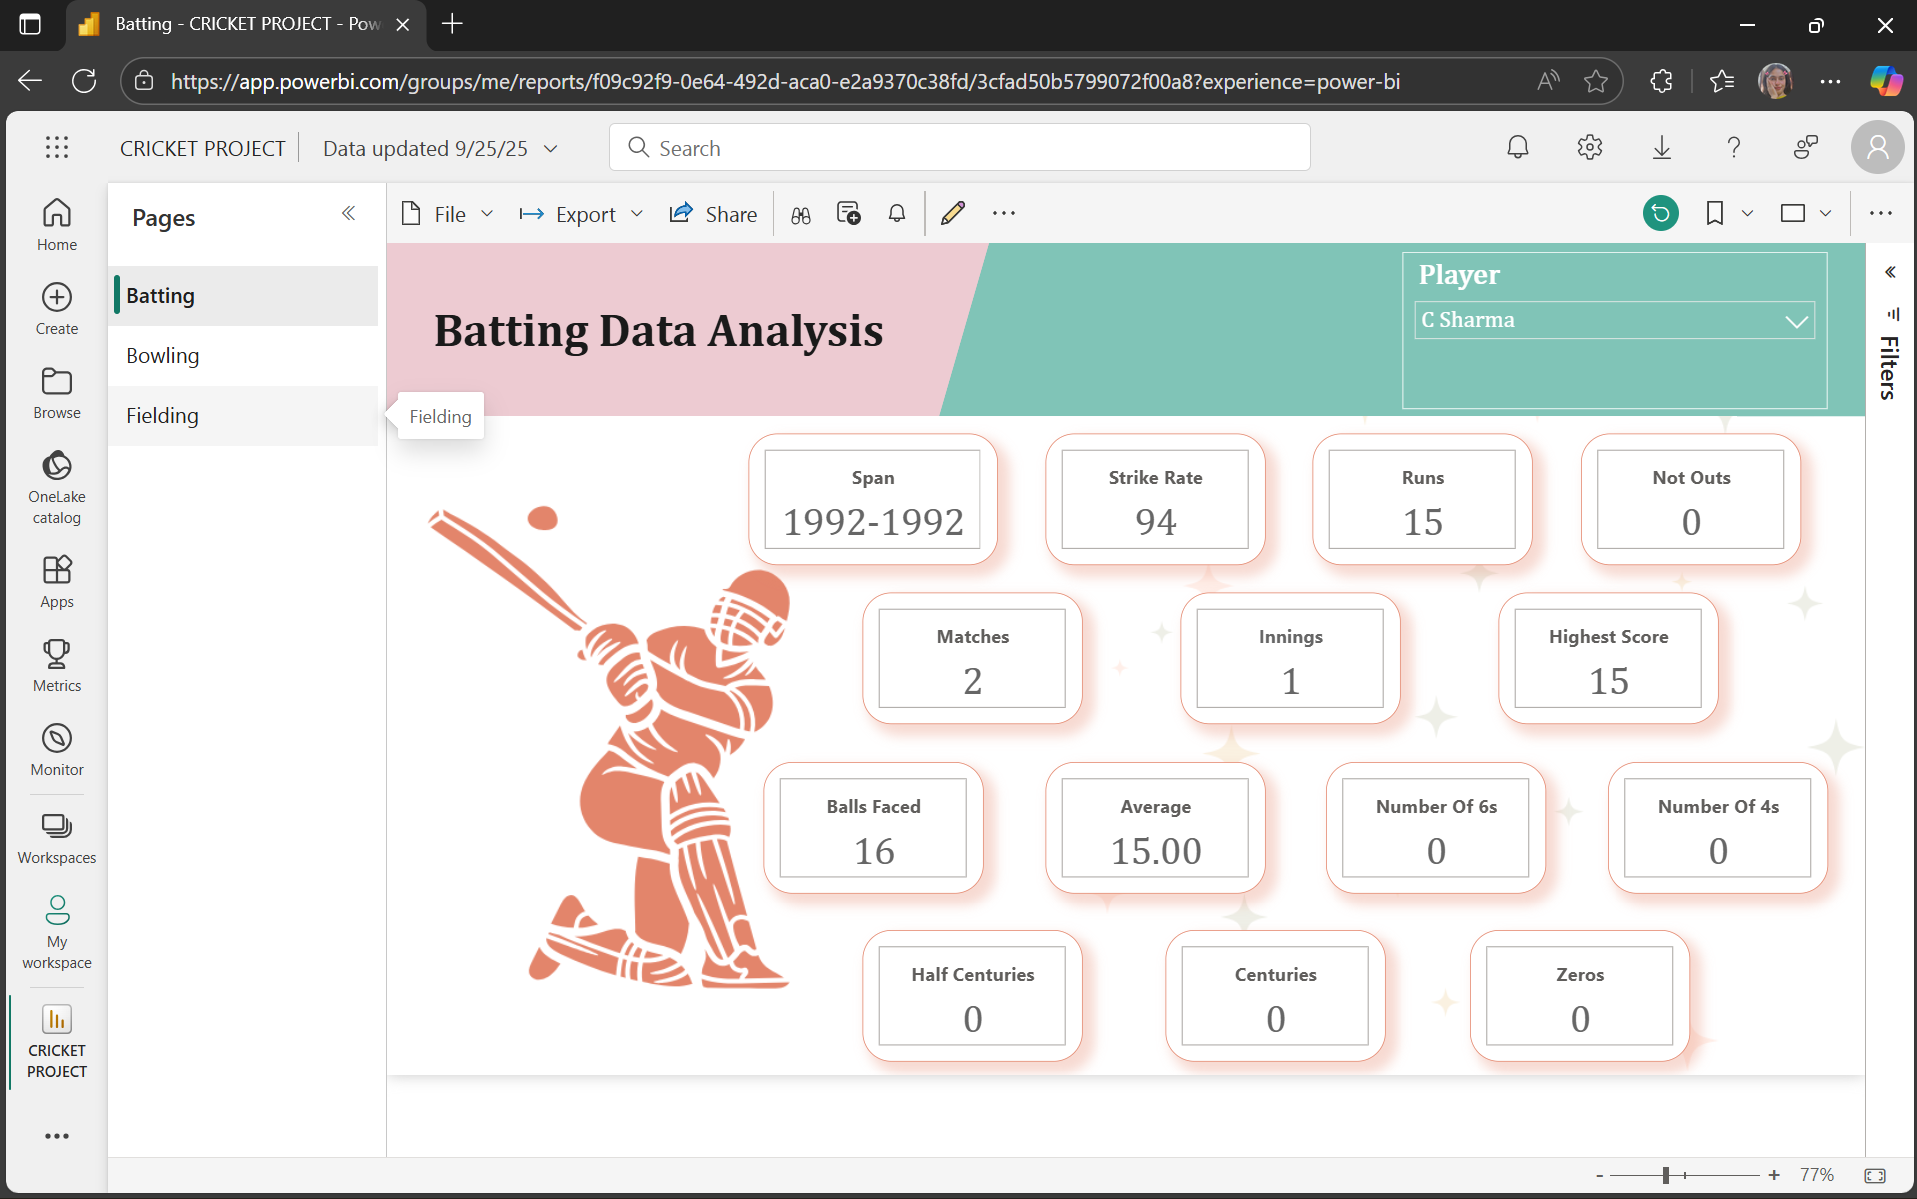

What the dashboard file says about the page in this screenshot:
{"tool":"powerbi","page":{"name":"Batting","canvas":[1280,720],"ordinal":0},"visuals":[{"type":"shape","box":[0,0,822.5,149.8],"z":0},{"type":"shape","box":[478.5,0,801,149.9],"z":1000},{"type":"shape","box":[1168.4,0,111.8,150],"z":2000},{"type":"slicer","fields":{"Values":["Batting.Player"]},"box":[879.8,7.6,368,136.3],"z":3000},{"type":"cardVisual","fields":{"Data":["Min(Batting.Span)"]},"box":[312.7,165.1,215.9,114.3],"z":4000},{"type":"cardVisual","fields":{"Data":["Sum(Batting.SR)"]},"box":[569.8,165.1,190.5,114.3],"z":5000},{"type":"cardVisual","fields":{"Data":["Sum(Batting.Runs)"]},"box":[801.6,165.1,190.5,114.3],"z":6000},{"type":"cardVisual","fields":{"Data":["Sum(Batting.NO)"]},"box":[1033.3,165.1,190.5,114.3],"z":7000},{"type":"cardVisual","fields":{"Data":["Sum(Batting.50)"]},"box":[411.1,595.2,190.5,114.3],"z":8000},{"type":"cardVisual","fields":{"Data":["Sum(Batting.Mat)"]},"box":[411.1,303.2,190.5,114.3],"z":9000},{"type":"cardVisual","fields":{"Data":["Sum(Batting.4s)"]},"box":[1057.1,449.2,190.5,114.3],"z":10000},{"type":"cardVisual","fields":{"Data":["Sum(Batting.Inns)"]},"box":[686.5,303.2,190.5,114.3],"z":11000},{"type":"cardVisual","fields":{"Data":["Sum(Batting.BF)"]},"box":[325.9,449.7,190.5,114.3],"z":12000},{"type":"cardVisual","fields":{"Data":["Sum(Batting.Ave)"]},"box":[569.6,449.2,190.5,114.3],"z":13000},{"type":"cardVisual","fields":{"Data":["Sum(Batting.6s)"]},"box":[813.4,449.2,190.5,114.3],"z":14000},{"type":"cardVisual","fields":{"Data":["Min(Batting.HS)"]},"box":[961.9,303.2,190.5,114.3],"z":15000},{"type":"cardVisual","fields":{"Data":["Sum(Batting.100)"]},"box":[674.6,595.2,190.5,114.3],"z":16000},{"type":"cardVisual","fields":{"Data":["Sum(Batting.0)"]},"box":[938.1,595.2,190.5,114.3],"z":17000}]}

Visuals, with their boxes on the page's 1280x720 design canvas (x1, y1, x2, y2). These are canvas units, not pixel positions in the 1917x1199 screenshot, which may show the page scaled, cropped or inside an application window:
shape: locate(0, 0, 822, 150)
shape: locate(478, 0, 1280, 150)
shape: locate(1168, 0, 1280, 150)
slicer - Batting.Player: locate(880, 8, 1248, 144)
cardVisual - Min(Batting.Span): locate(313, 165, 529, 279)
cardVisual - Sum(Batting.SR): locate(570, 165, 760, 279)
cardVisual - Sum(Batting.Runs): locate(802, 165, 992, 279)
cardVisual - Sum(Batting.NO): locate(1033, 165, 1224, 279)
cardVisual - Sum(Batting.50): locate(411, 595, 602, 710)
cardVisual - Sum(Batting.Mat): locate(411, 303, 602, 418)
cardVisual - Sum(Batting.4s): locate(1057, 449, 1248, 564)
cardVisual - Sum(Batting.Inns): locate(686, 303, 877, 418)
cardVisual - Sum(Batting.BF): locate(326, 450, 516, 564)
cardVisual - Sum(Batting.Ave): locate(570, 449, 760, 564)
cardVisual - Sum(Batting.6s): locate(813, 449, 1004, 564)
cardVisual - Min(Batting.HS): locate(962, 303, 1152, 418)
cardVisual - Sum(Batting.100): locate(675, 595, 865, 710)
cardVisual - Sum(Batting.0): locate(938, 595, 1129, 710)
